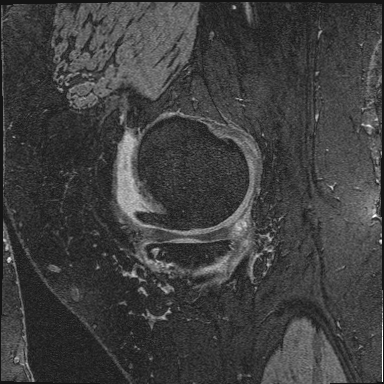effusion: (117, 140, 139, 211)
